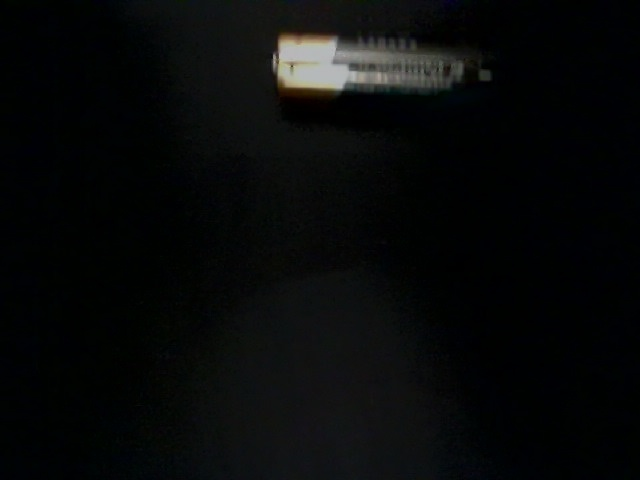QTLJ: (80, 1, 255, 102)
